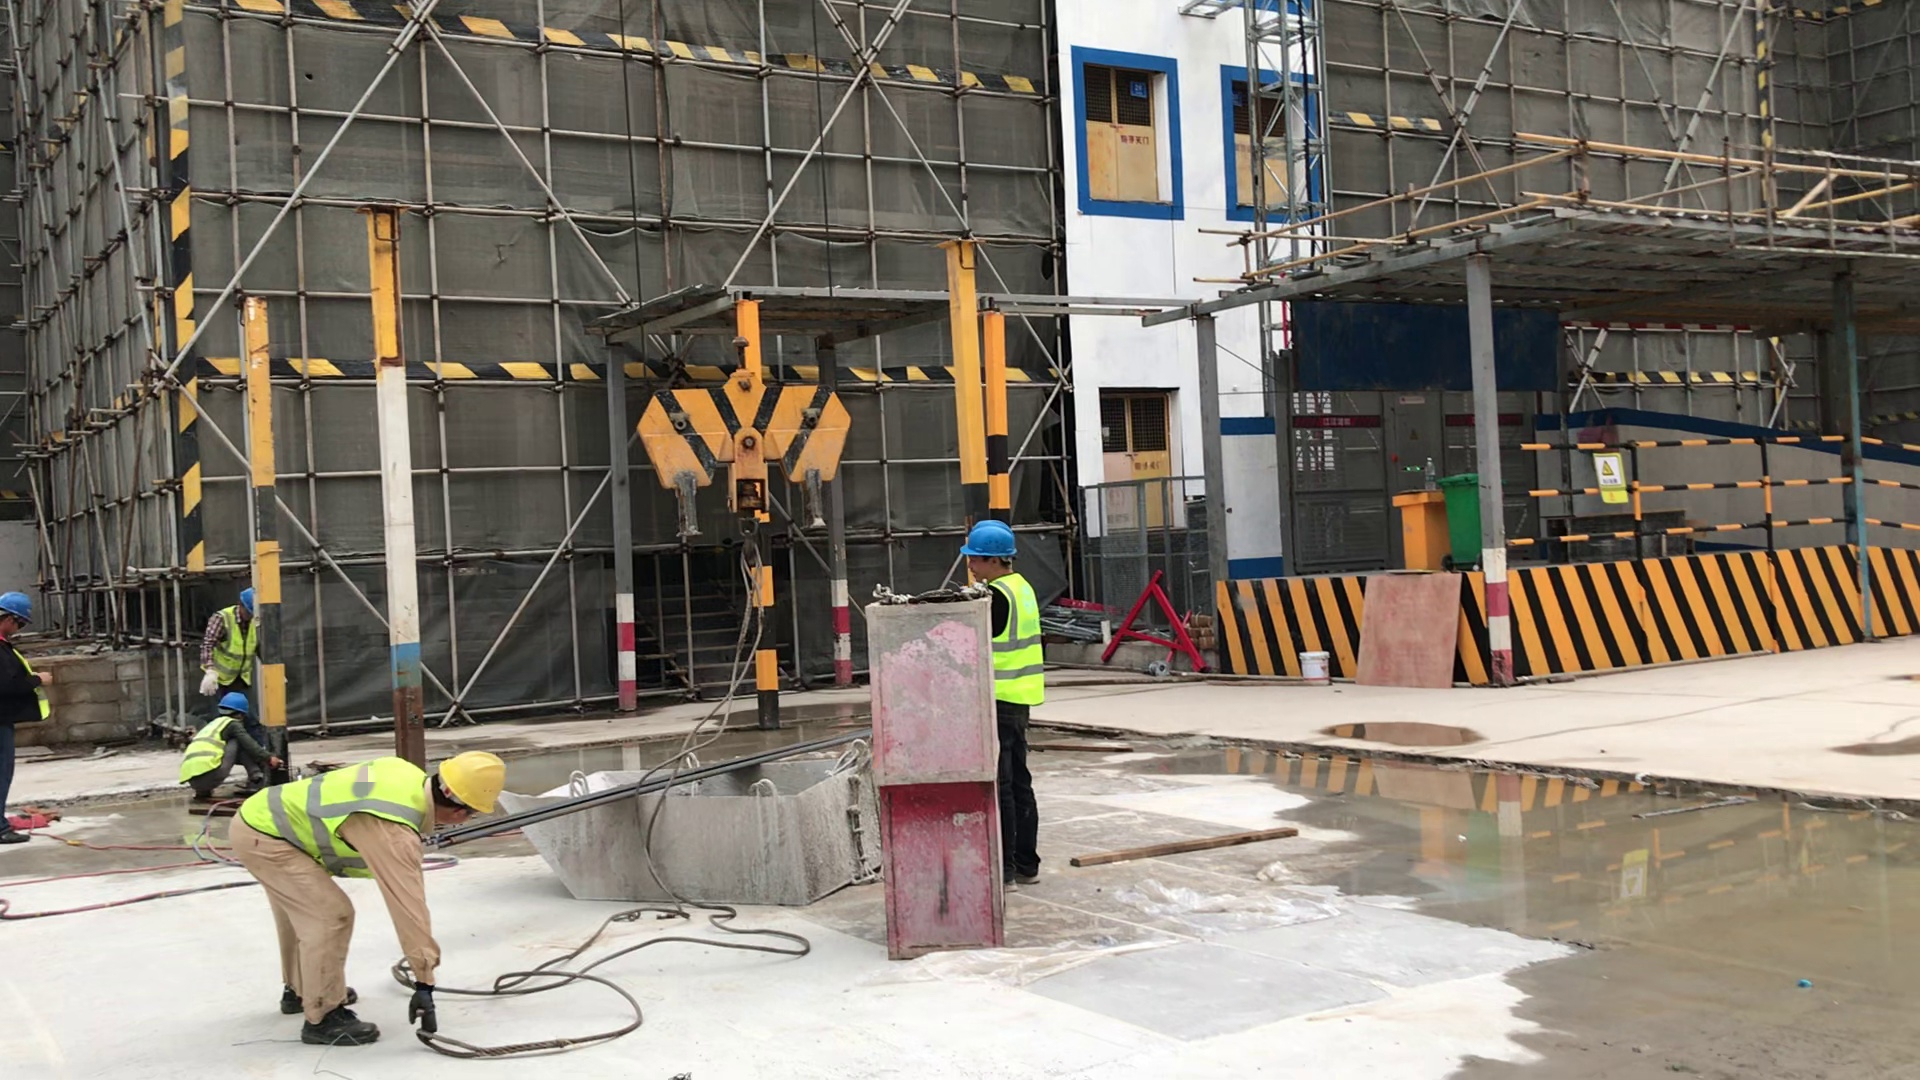fence: (1491, 430, 1920, 569)
helmet: (438, 734, 511, 829), (958, 518, 1028, 564), (1, 584, 43, 651), (217, 681, 254, 722), (228, 579, 259, 626)
hook: (604, 309, 860, 577)
hopper: (488, 731, 885, 912)
person: (216, 734, 532, 1060), (874, 499, 1075, 908), (1, 573, 52, 889), (166, 688, 281, 815), (192, 561, 277, 696)
rebar: (510, 758, 825, 830)
slogan: (1583, 437, 1641, 515)
vest: (228, 739, 447, 889), (971, 572, 1060, 720), (191, 607, 266, 689), (6, 647, 68, 738), (171, 707, 239, 785)
